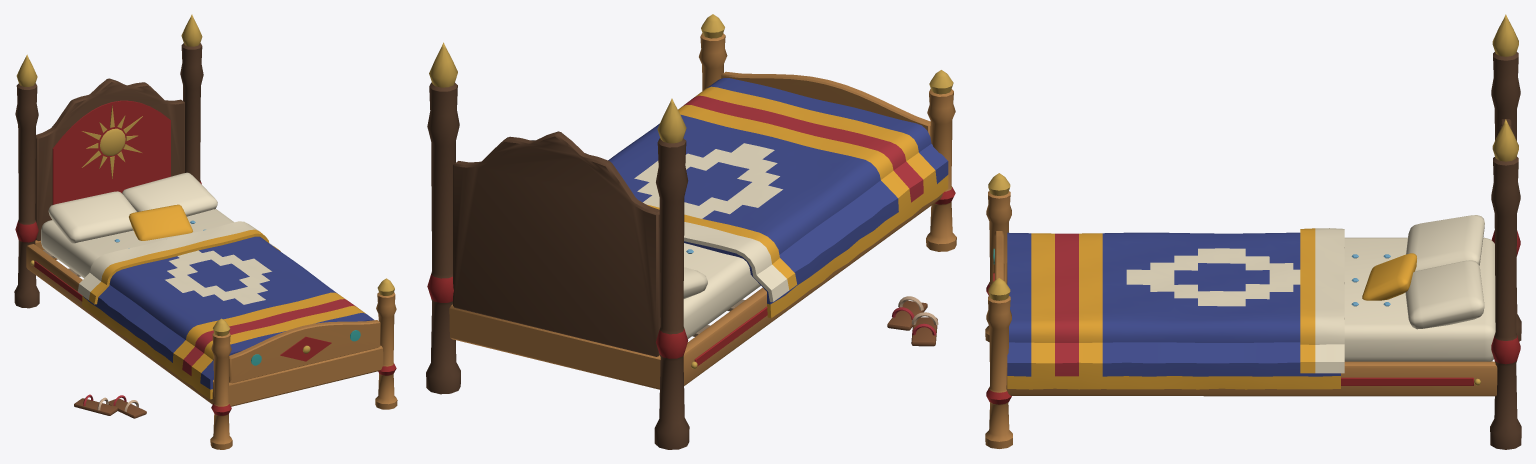
Rendered from deco_bed_frame.fbx.
3 views of the same model, side by side, from view 1: azimuth 30°, elevation 25°; view 2: azimuth 150°, elevation 25°; view 3: azimuth 270°, elevation 25° (orthographic). The views are drawn at different scales.
Visible parts, largest first — view 1: Bed_Frame_Blanket, Bed_Frame_Headboard, Bed_Frame_Frame, Bed_Frame_Pillow, Bed_Frame_Mattress, Bed_Frame_Sandals; view 2: Bed_Frame_Headboard, Bed_Frame_Blanket, Bed_Frame_Frame, Bed_Frame_Mattress, Bed_Frame_Sandals, Bed_Frame_Pillow; view 3: Bed_Frame_Blanket, Bed_Frame_Frame, Bed_Frame_Mattress, Bed_Frame_Headboard, Bed_Frame_Pillow.
Boxes of the visible parts, <box> form: Bed_Frame_Blanket: <box>77,221,374,399</box>; Bed_Frame_Headboard: <box>14,14,203,308</box>; Bed_Frame_Frame: <box>26,240,397,449</box>; Bed_Frame_Pillow: <box>48,172,217,243</box>; Bed_Frame_Mattress: <box>41,209,233,278</box>; Bed_Frame_Sandals: <box>74,394,146,418</box>; Bed_Frame_Headboard: <box>426,42,689,449</box>; Bed_Frame_Blanket: <box>608,78,948,318</box>; Bed_Frame_Frame: <box>449,14,956,389</box>; Bed_Frame_Mattress: <box>683,243,760,338</box>; Bed_Frame_Sandals: <box>887,296,938,346</box>; Bed_Frame_Pillow: <box>683,267,707,298</box>; Bed_Frame_Blanket: <box>1007,228,1344,389</box>; Bed_Frame_Frame: <box>985,173,1497,448</box>; Bed_Frame_Mattress: <box>1344,237,1495,361</box>; Bed_Frame_Headboard: <box>1490,14,1521,449</box>; Bed_Frame_Pillow: <box>1362,215,1484,329</box>.
Bounding box in the file's own units: 211 × 202 × 303.
